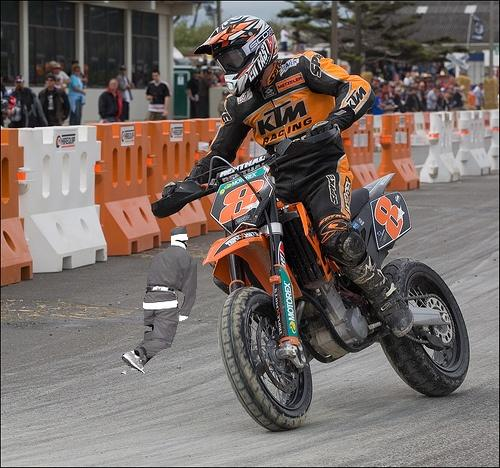tampered: (122, 227, 197, 374)
